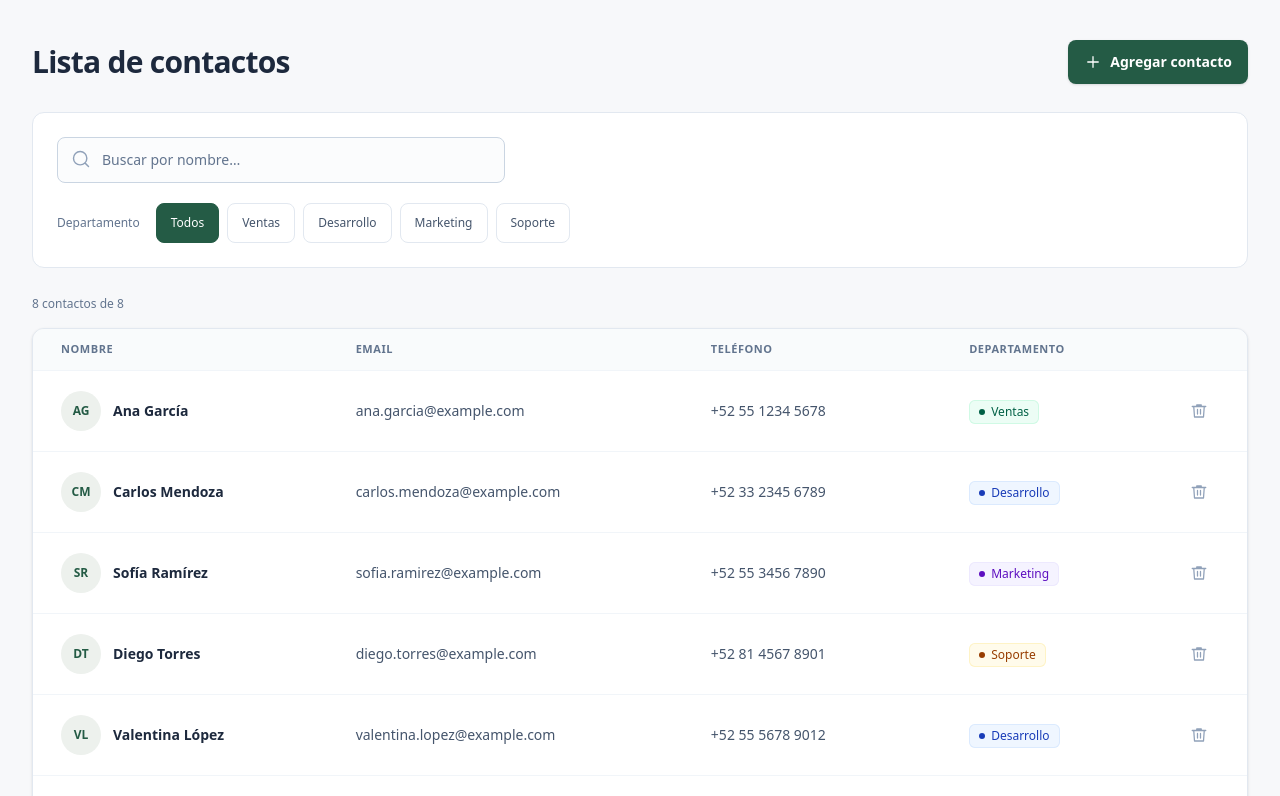
Test: elimina por id y actualiza la lista y el contador
The image size is (1280, 796).
Expected: the text "Ana García" is shown, [113,400,188,420]
Click the button named "Eliminar a Ana García".
click(1199, 410)  # box [1179,390,1219,430]
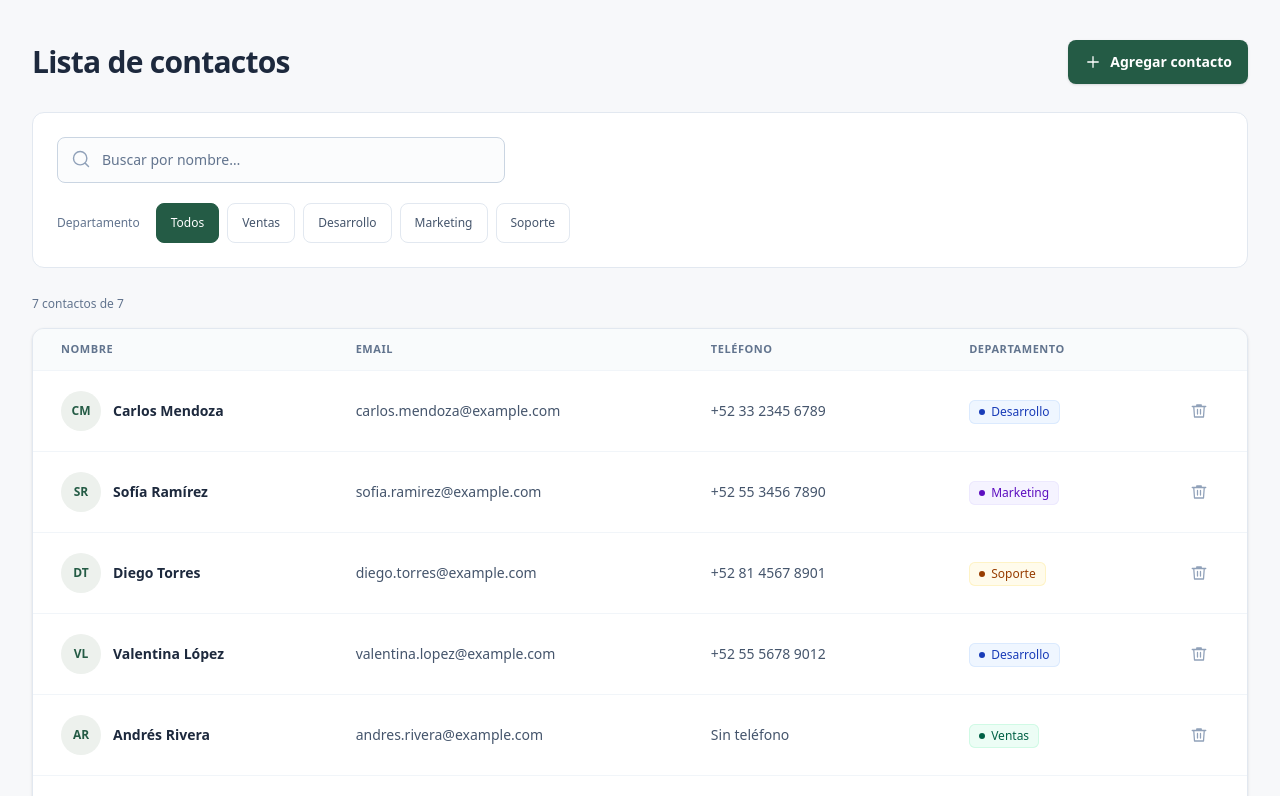
Result: the text "Ana García" is gone
Result: the number of list items is 7
Result: the message reads "7 contactos de 7" at [32,295,124,312]
